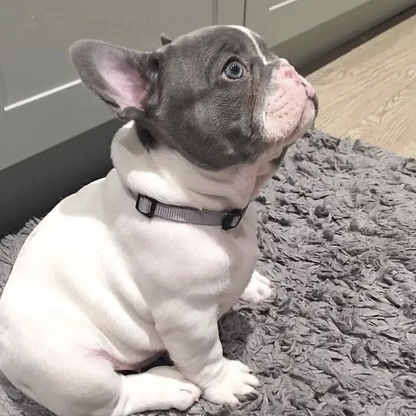bulldog: (62, 22, 326, 298)
